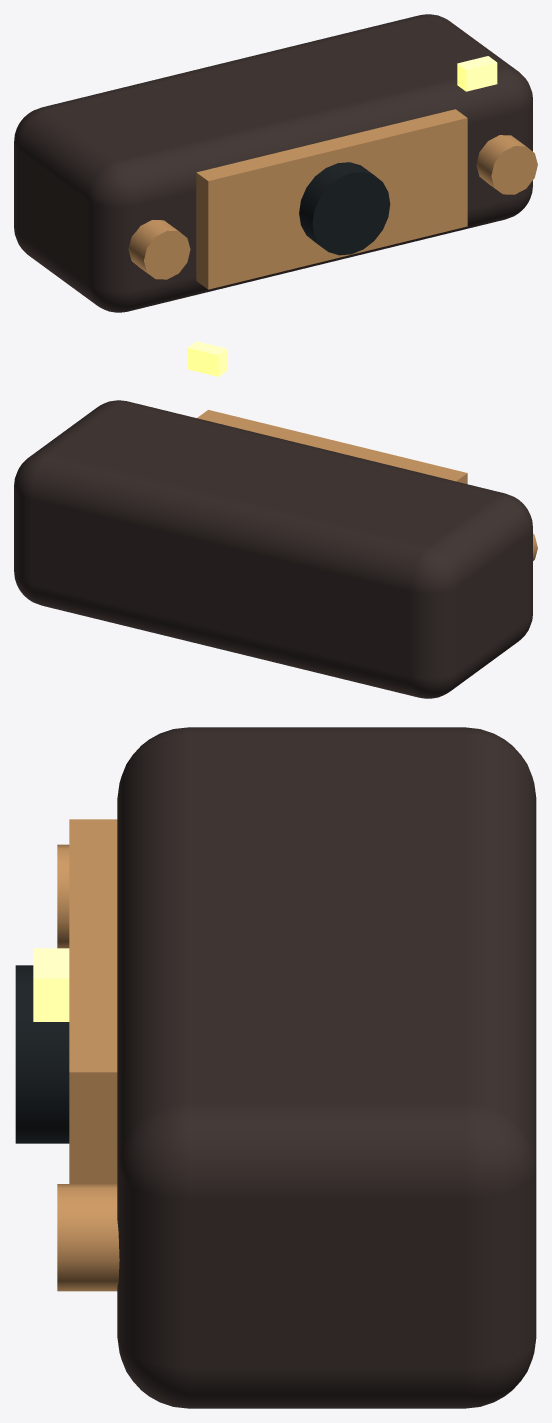
The picture shows the model from 3 angles, top to bottom: view 1: azimuth 30°, elevation 25°; view 2: azimuth 150°, elevation 25°; view 3: azimuth 270°, elevation 25°; orthographic projection. The views are drawn at different scales.
Visible parts, largest first — view 1: camera-body, camera-front-plate, camera-lens, camera-end-left, camera-end-right, recording-led; view 2: camera-body, camera-front-plate, recording-led; view 3: camera-body, camera-front-plate, camera-lens, camera-end-right, recording-led, camera-end-left.
Part boxes in pixels (x1,y1,x2,y2): camera-body: (14, 14, 532, 312); camera-front-plate: (196, 109, 467, 289); camera-lens: (299, 162, 390, 255); camera-end-left: (128, 220, 190, 279); camera-end-right: (476, 135, 537, 194); recording-led: (457, 56, 497, 91); camera-body: (14, 400, 532, 698); camera-front-plate: (197, 410, 467, 484); recording-led: (187, 341, 227, 376); camera-body: (117, 727, 536, 1408); camera-front-plate: (69, 819, 117, 1183); camera-lens: (15, 965, 69, 1143); camera-end-right: (57, 1184, 119, 1291); recording-led: (33, 948, 69, 1021); camera-end-left: (57, 844, 69, 948).
Size of the model in its own units: 0.17 by 0.071 by 0.087.
